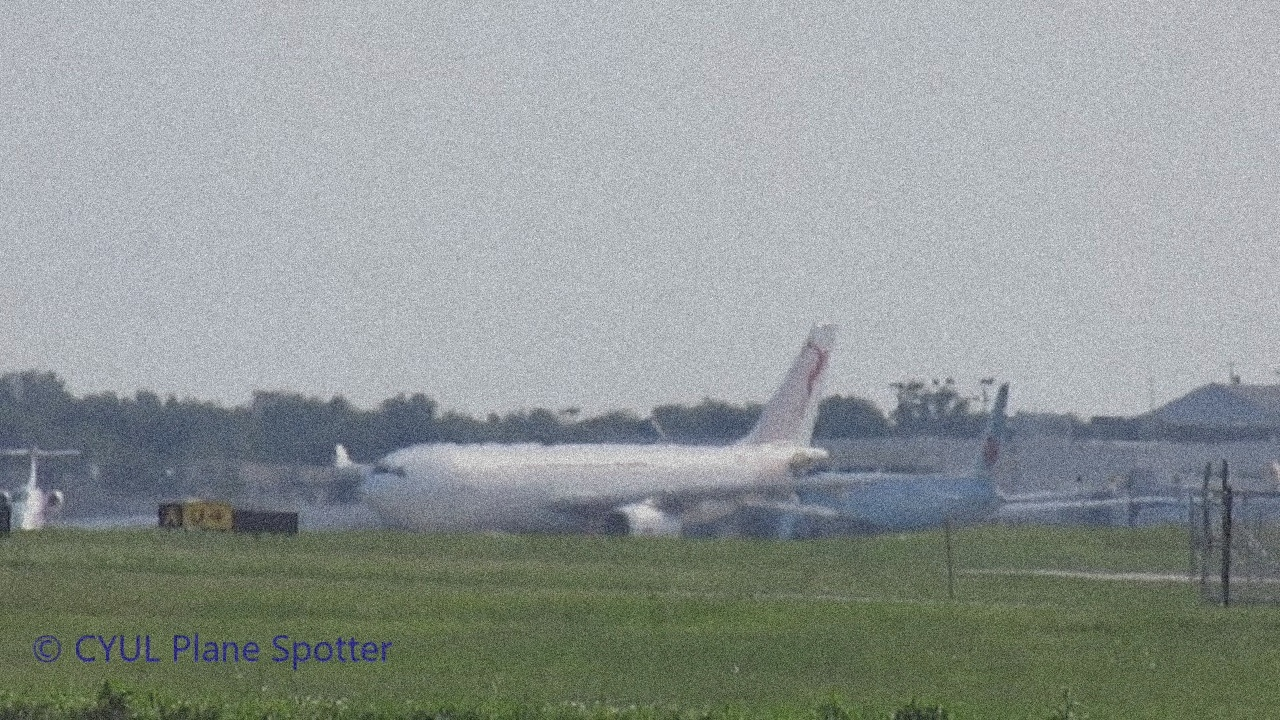Airplane: (364, 328, 854, 544)
